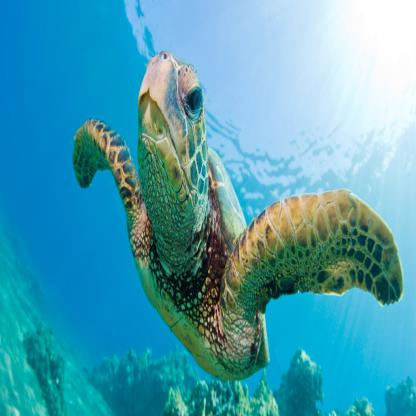turtle: (132, 41, 212, 240)
